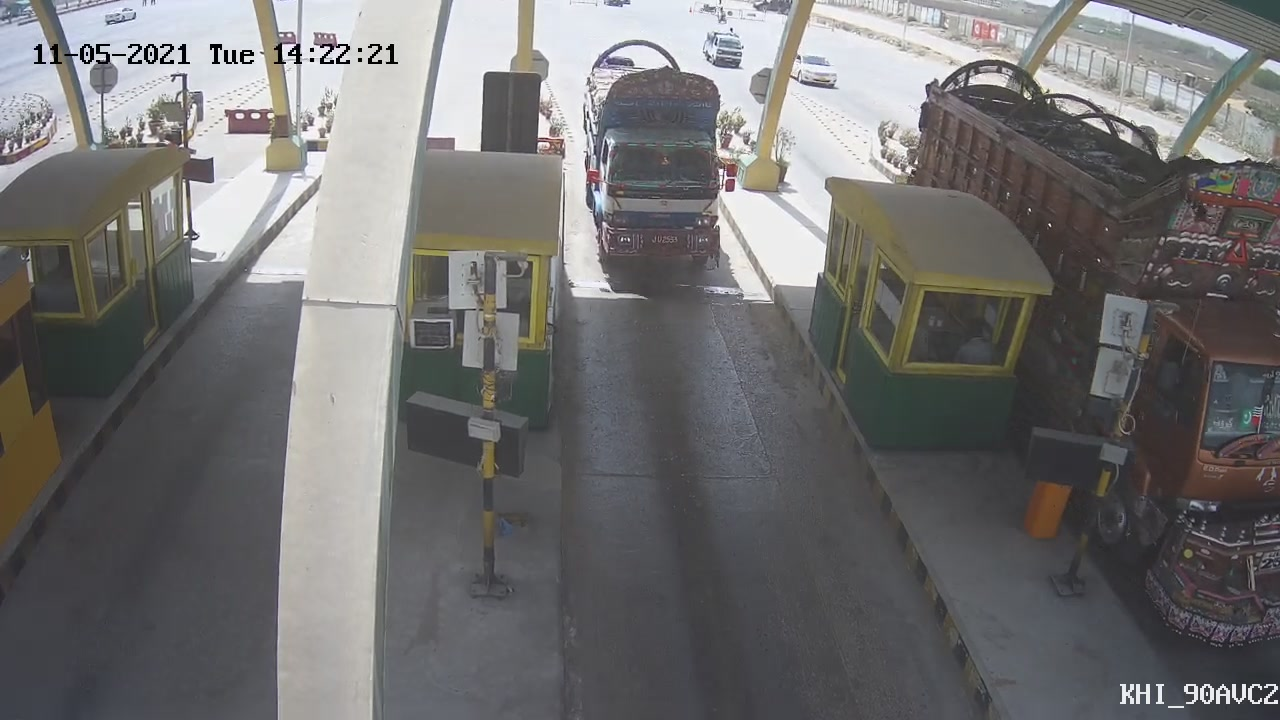F5: (586, 39, 732, 285)
